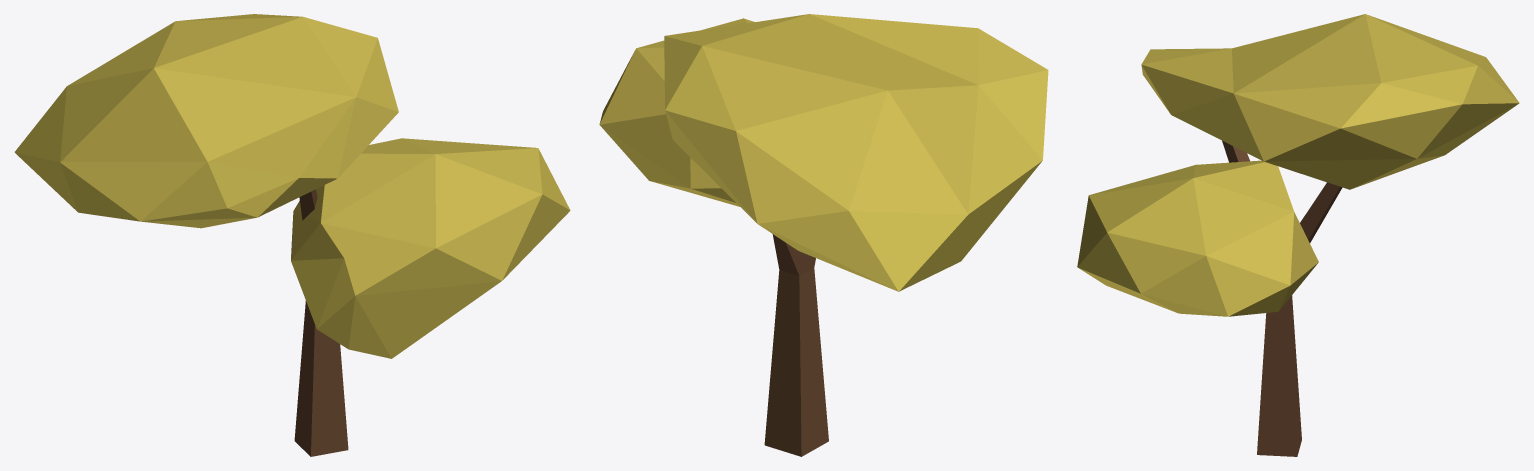
Rendered from mesh_tree_03_green.fbx.
The picture shows the model from 3 angles, left to right: view 1: azimuth 30°, elevation 25°; view 2: azimuth 150°, elevation 25°; view 3: azimuth 270°, elevation 25°; orthographic projection. The views are drawn at different scales.
Parts seen in each view (by area): view 1: mesh_tree_03_green; view 2: mesh_tree_03_green; view 3: mesh_tree_03_green.
Part boxes in pixels (left/top/right/bottom): mesh_tree_03_green: left=14, top=14, right=570, bottom=456; mesh_tree_03_green: left=599, top=14, right=1048, bottom=456; mesh_tree_03_green: left=1077, top=14, right=1519, bottom=456.
Size of the model in its own units: 513 by 464 by 489.
